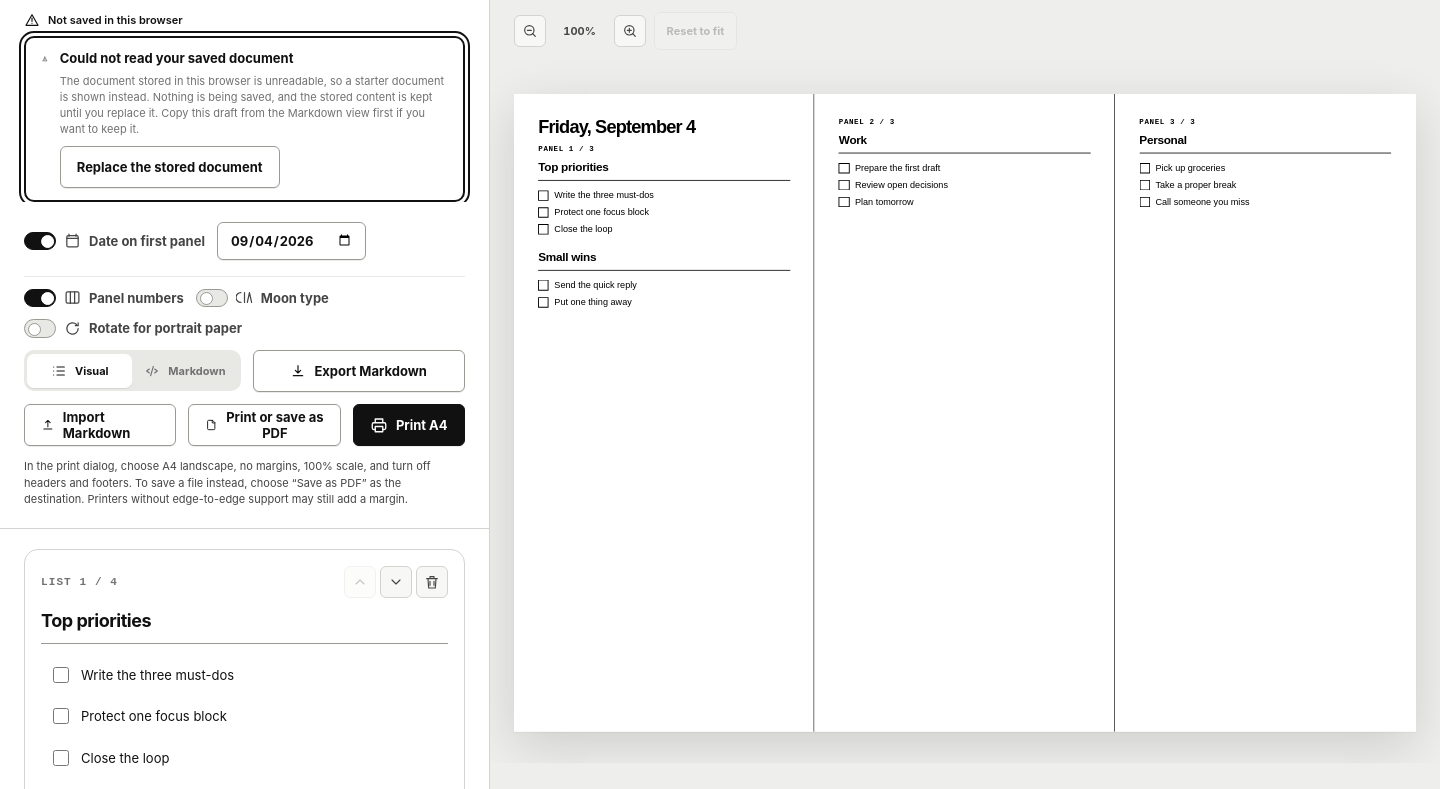
App › keeps unreadable stored content until the user replaces it explicitly
Check: the message "Could not read your saved document" shows "The document stored in this browser is unreadable, so a starter document is shown instead. Nothing is being saved, and the stored content is kept until you repl", box x1=60 y1=74 x2=444 y2=136
Note: Editing continues, but the unreadable value is the user's only stored copy.
Type "!" into the 1st field. click: (244, 627)
box: x1=41 y1=610 x2=448 y2=644
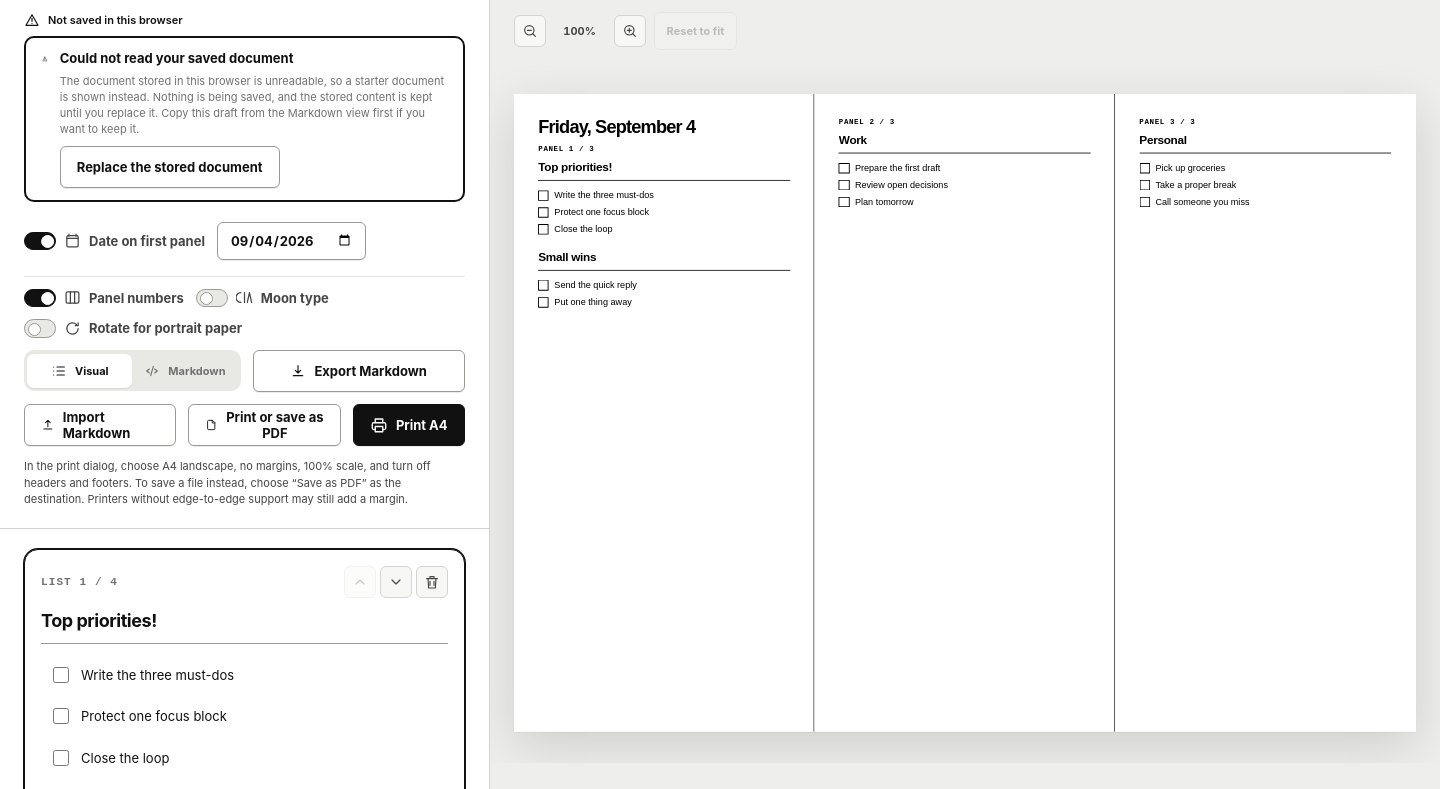
Click the button "Replace the stored document". click: (170, 167)
box: x1=60 y1=146 x2=280 y2=188
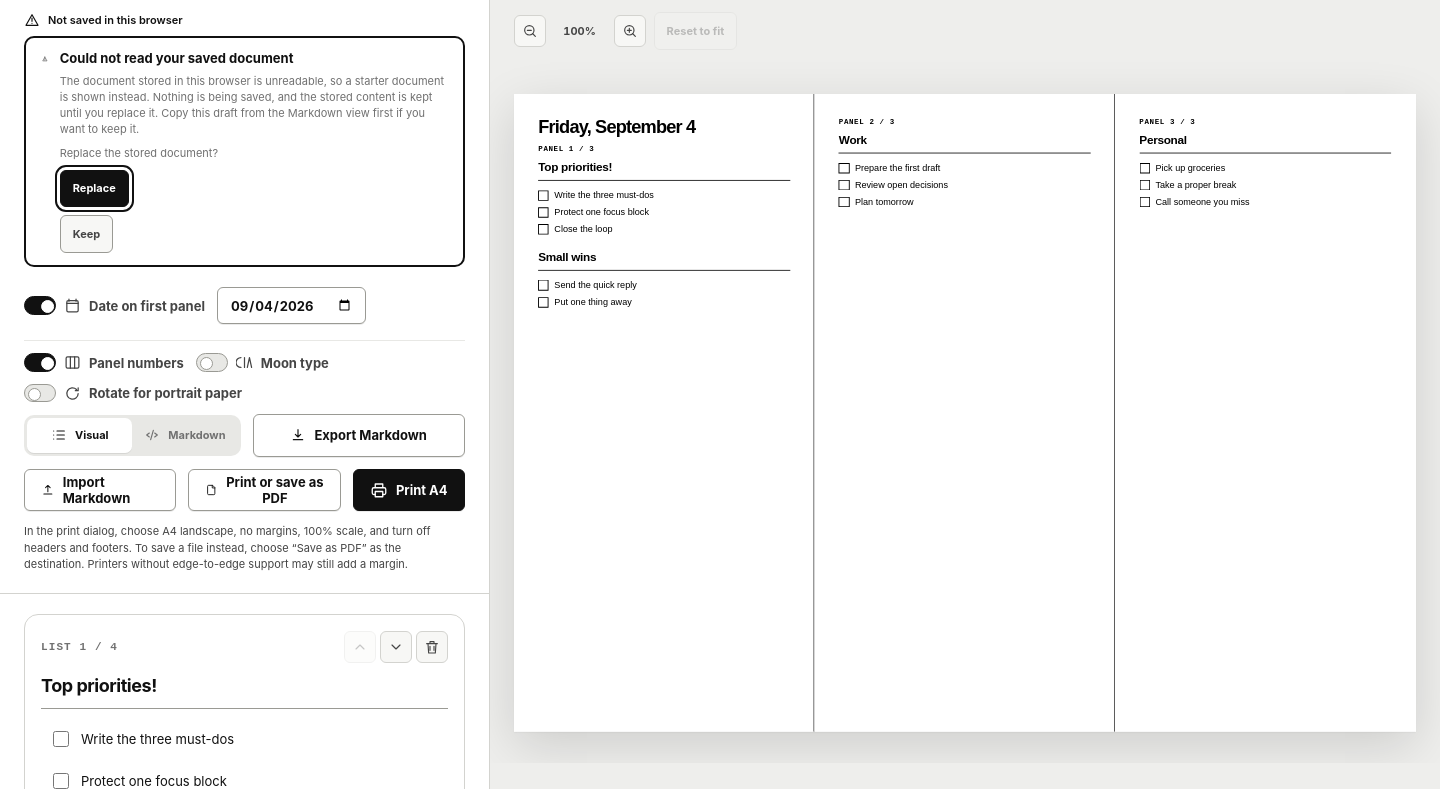
Click the button "Replace". click: (94, 188)
box: x1=60 y1=170 x2=129 y2=207
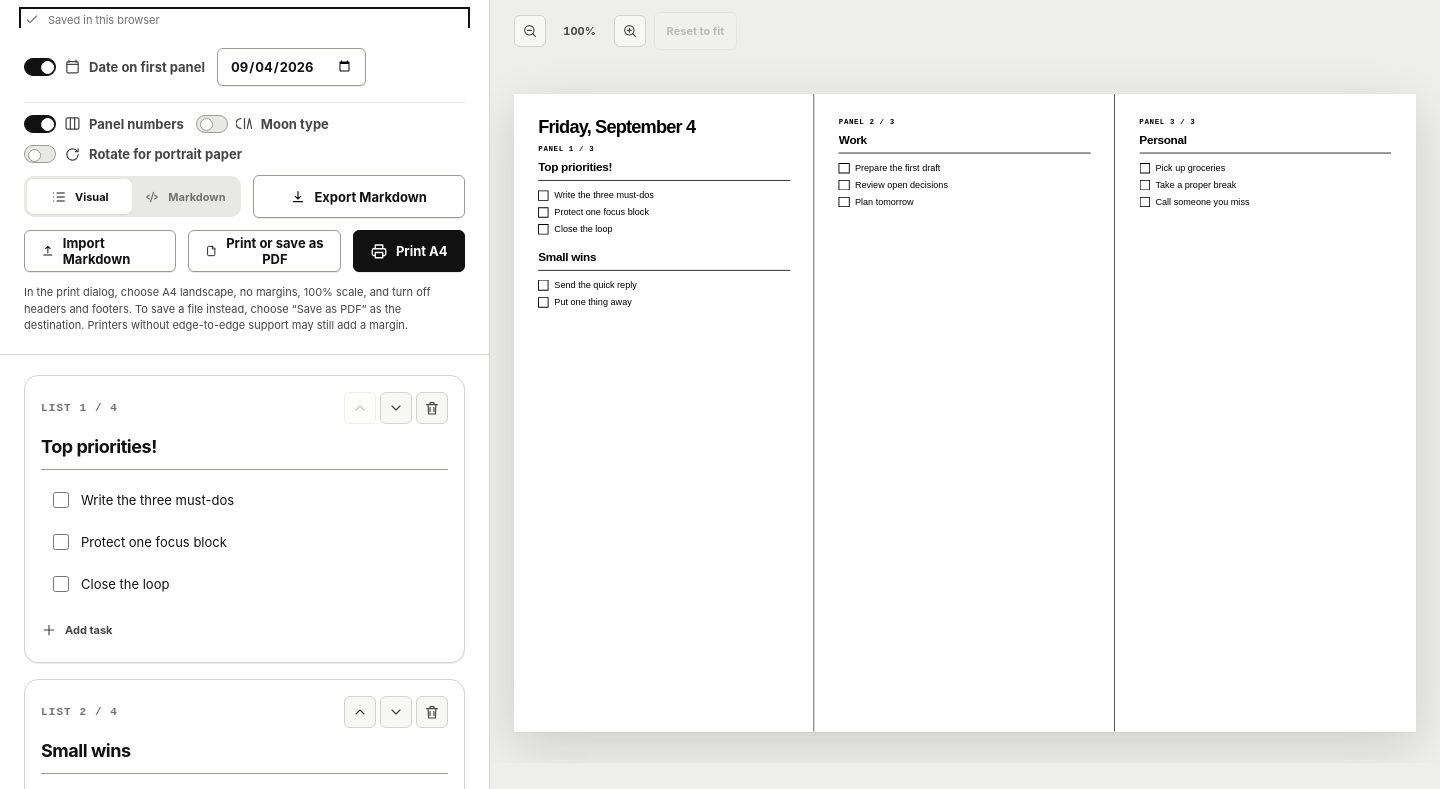
Check: the text "Could not read your saved document" is gone
Check: the message reads "Saved in this browser", box x1=48 y1=13 x2=160 y2=27
